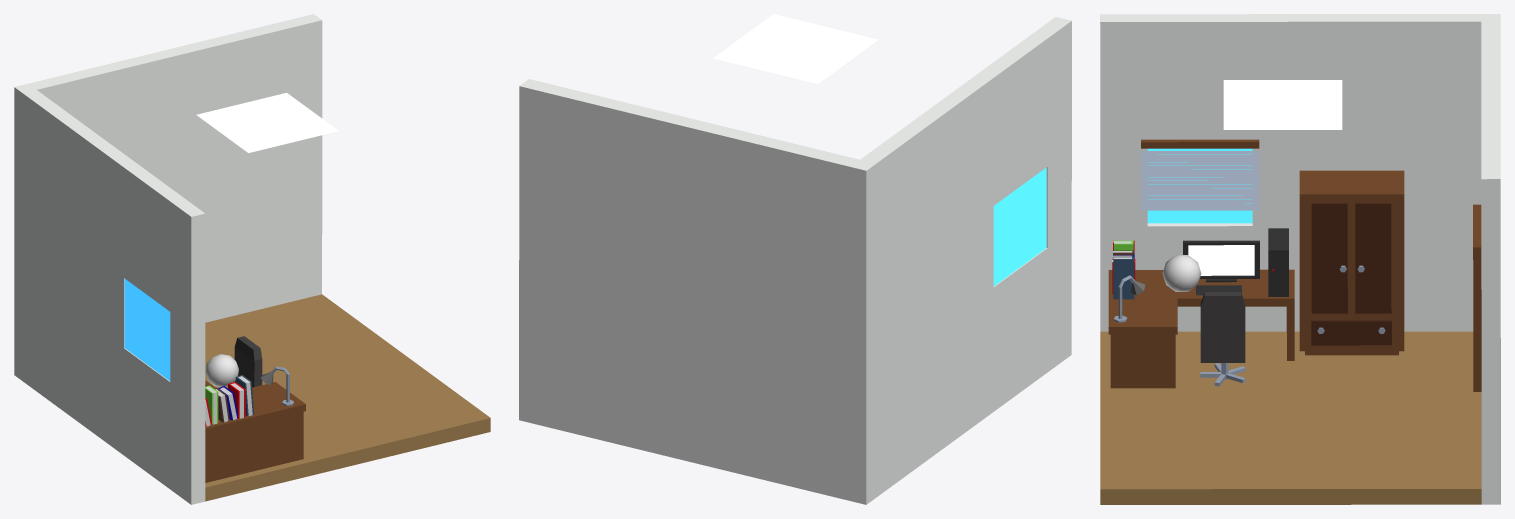
The model's file is low_poly_room.glb.
3 renders of one model, left to right at view 1: azimuth 30°, elevation 25°; view 2: azimuth 150°, elevation 25°; view 3: azimuth 270°, elevation 25°, orthographic. The views are drawn at different scales.
Visible parts, largest first — view 1: Object_11, Object_10, Object_18, Plane.001, Object_19, Object_9, Object_13, Icosphere; view 2: Object_11, Plane.001, Object_19; view 3: Object_11, Object_10, Object_18, Object_17, Object_16, Plane.001, Object_9, Object_20, Object_19, Object_8, Icosphere, Object_2.
Part boxes in pixels (x1,y1,x2,y2): Object_11: (14, 14, 322, 504); Object_10: (205, 294, 490, 501); Object_18: (205, 380, 305, 482); Plane.001: (196, 92, 338, 152); Object_19: (124, 279, 170, 380); Object_9: (234, 336, 262, 387); Object_13: (205, 376, 252, 426); Icosphere: (205, 354, 238, 387); Object_11: (519, 17, 1071, 504); Plane.001: (713, 14, 878, 83); Object_19: (993, 167, 1046, 286); Object_11: (1100, 14, 1500, 504); Object_10: (1100, 331, 1481, 504); Object_18: (1108, 139, 1481, 391); Object_17: (1311, 203, 1391, 345); Object_16: (1113, 151, 1385, 386); Plane.001: (1223, 80, 1342, 129); Object_9: (1200, 292, 1245, 362); Object_20: (1183, 228, 1288, 296); Object_19: (1147, 148, 1252, 223); Object_8: (1188, 245, 1254, 275); Icosphere: (1162, 255, 1201, 291); Object_2: (1113, 256, 1134, 299).
Size of the model in its own units: 6.6 by 6.07 by 6.77.
